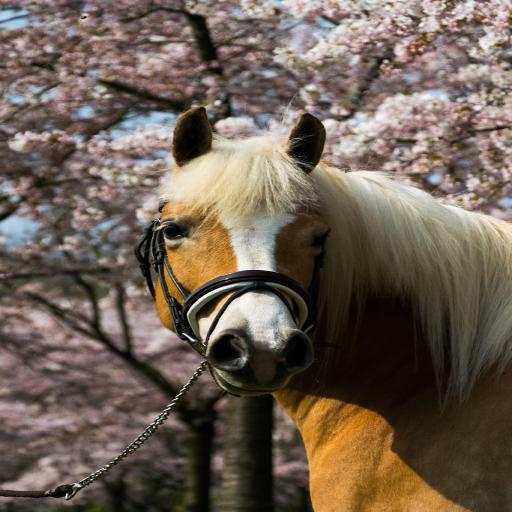horse: (136, 102, 512, 512)
